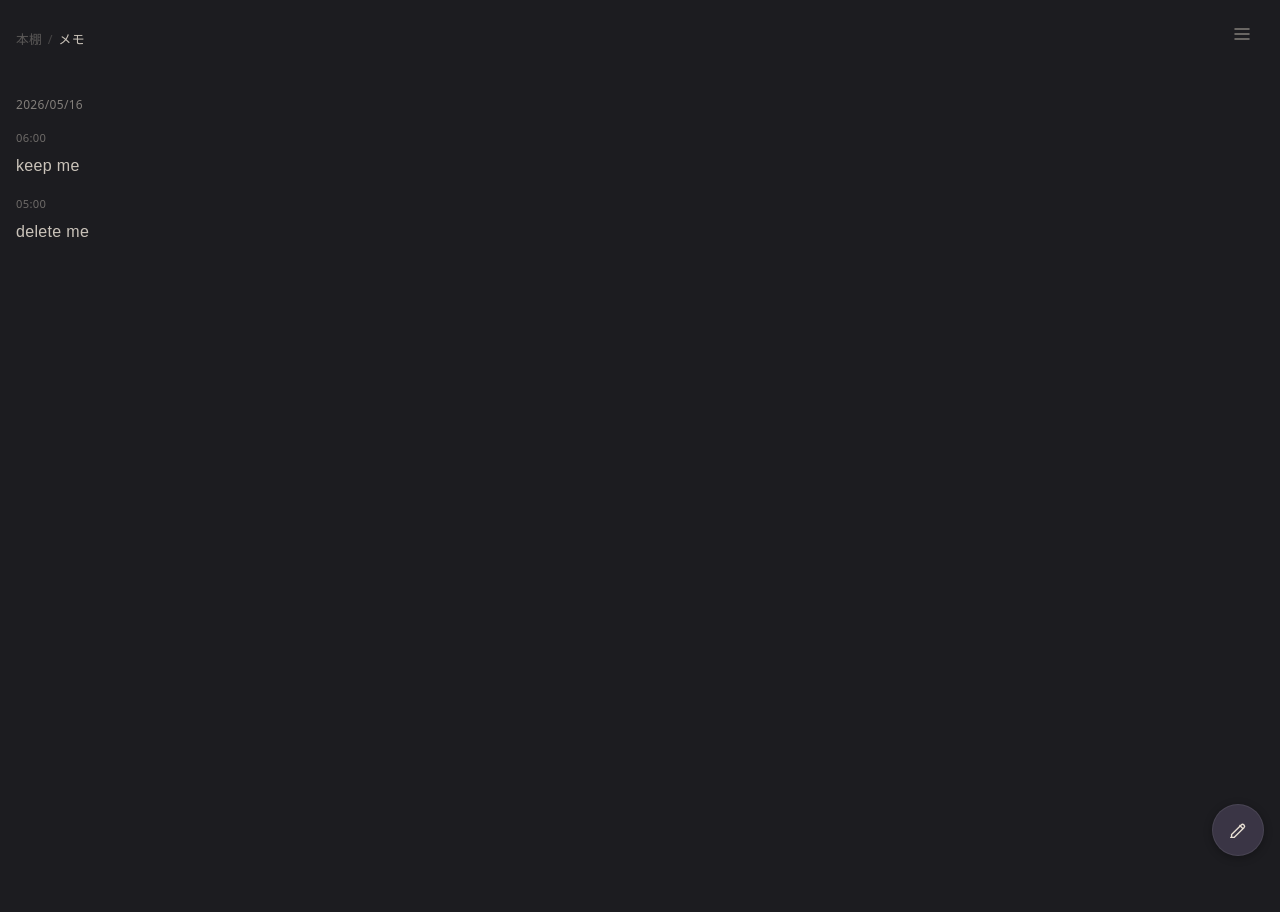
Scenario: LogListPage MemoListItem (M3-T5) › 長押し→confirm→deleteMemo→一覧から消える（再ロード反映）
Press the mouse on the text "delete me": (53, 231) [16, 223, 89, 240]
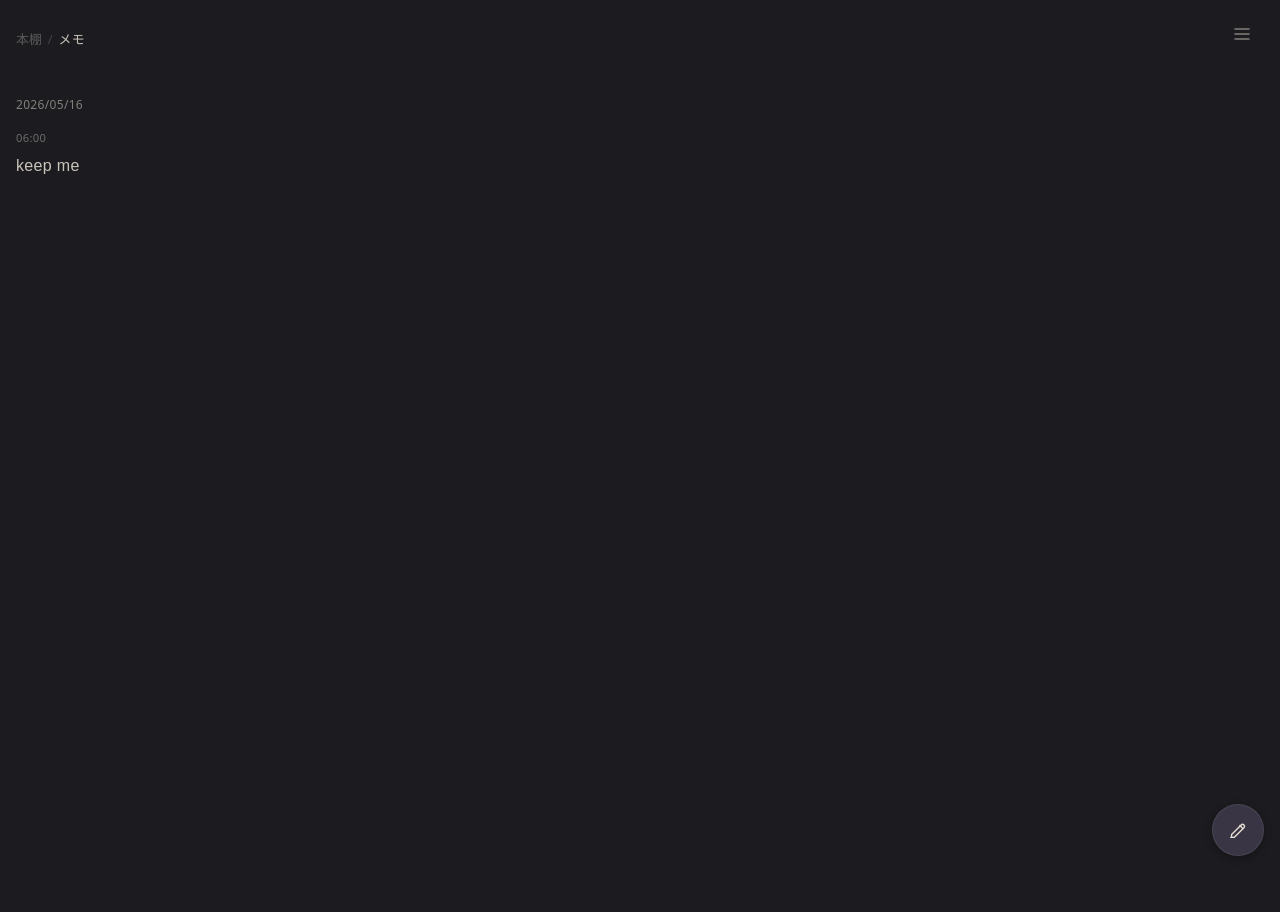
Expected: the text "keep me" is shown, [16, 157, 80, 174]
Expected: the button "delete me" is gone
